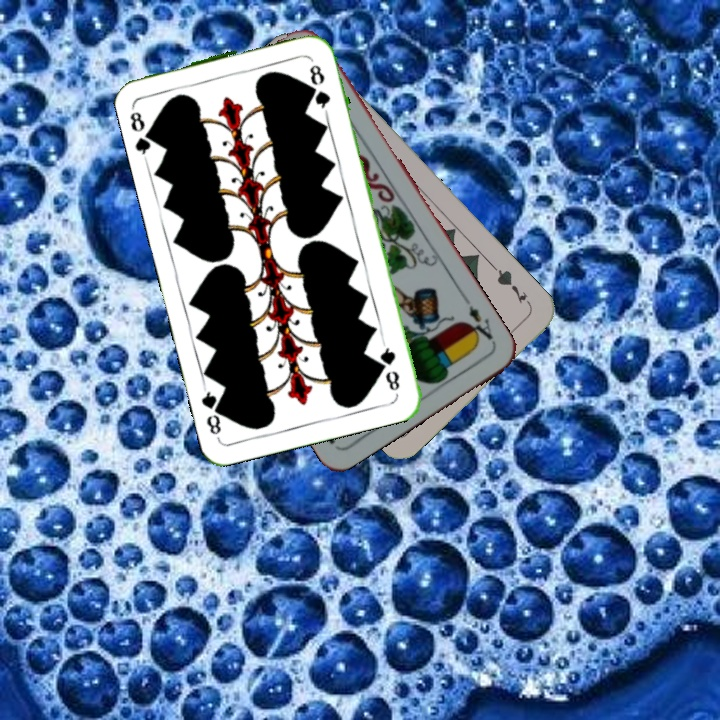EA: (460, 294, 496, 345)
G7: (489, 262, 534, 310)
G8: (126, 101, 160, 157), (376, 338, 403, 394)
